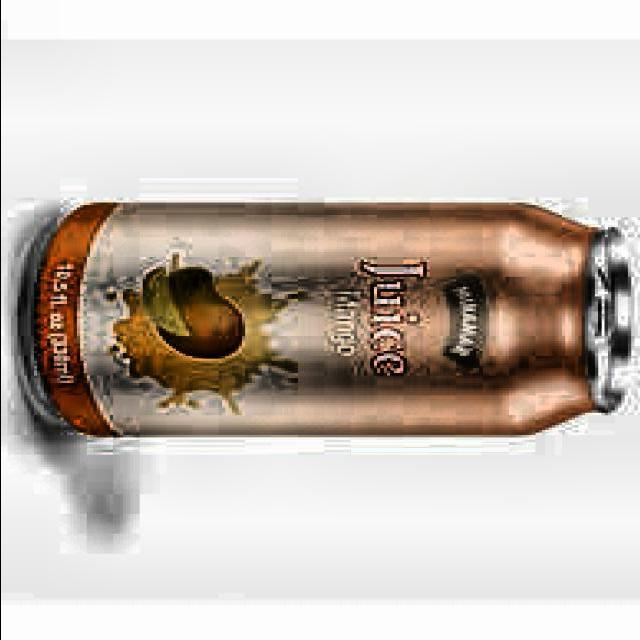litter: (13, 190, 640, 448)
